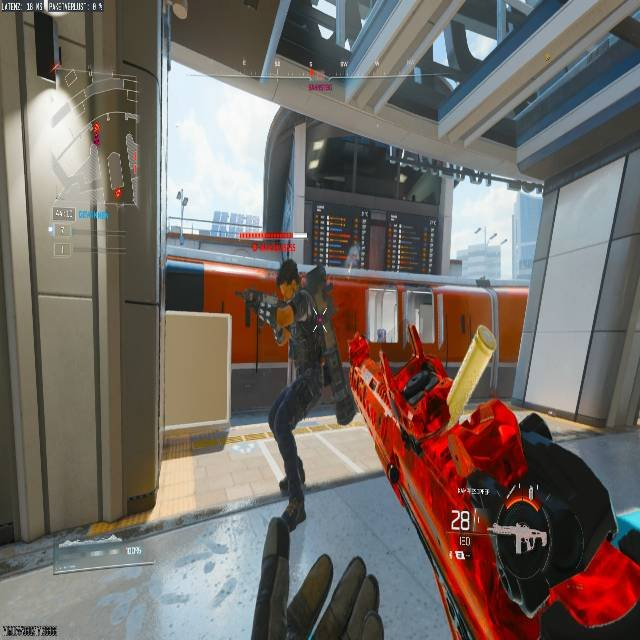head: (275, 259, 300, 298), (278, 257, 299, 282)
player: (255, 259, 357, 531)
